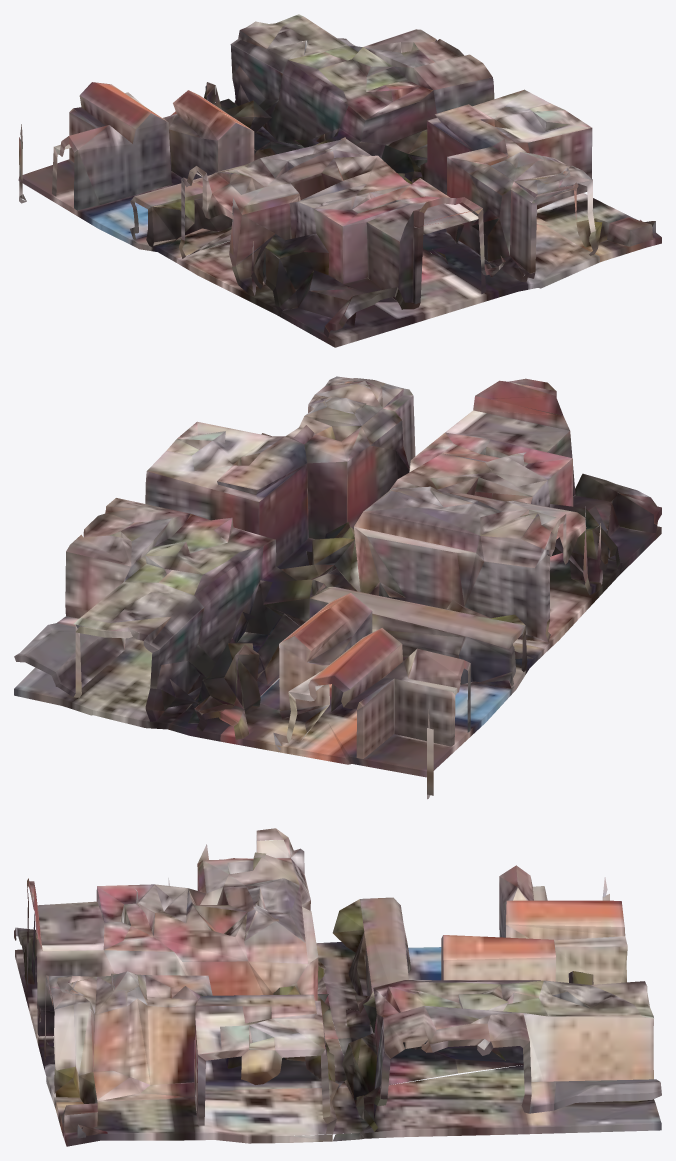
3 renders of one model, top to bottom at view 1: azimuth 30°, elevation 25°; view 2: azimuth 150°, elevation 25°; view 3: azimuth 270°, elevation 25°, orthographic. The views are drawn at different scales.
Parts seen in each view (by area): view 1: Mesh_0; view 2: Mesh_0; view 3: Mesh_0.
Boxes of the visible parts, x1,y1,x2,y2 form: Mesh_0: [18, 14, 661, 347]; Mesh_0: [14, 376, 661, 799]; Mesh_0: [14, 828, 661, 1146].
Size of the model in its own units: 135 by 48.14 by 165.
Materials: 1 (1 with a texture image).
